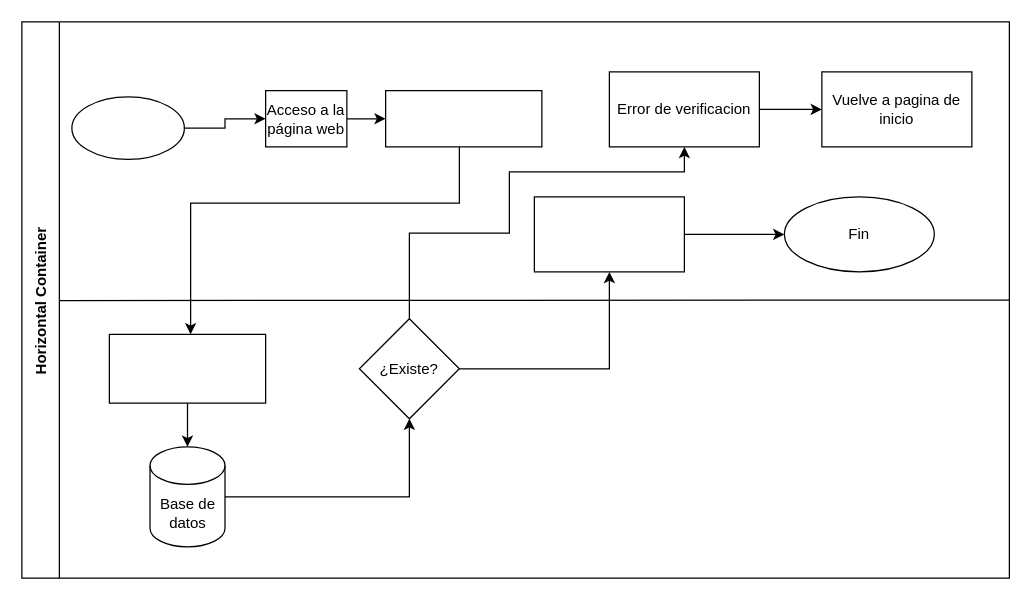
Image size: 1033x600. Some labels were removed from this diagram. Each missing label, with the box of its shape:
Muestra Pagina Principal: (533, 196, 684, 272)
Solicita nombre de usuario y contraseña: (384, 89, 542, 147)
Verificar usuario y contraseña en BD: (108, 333, 266, 403)
